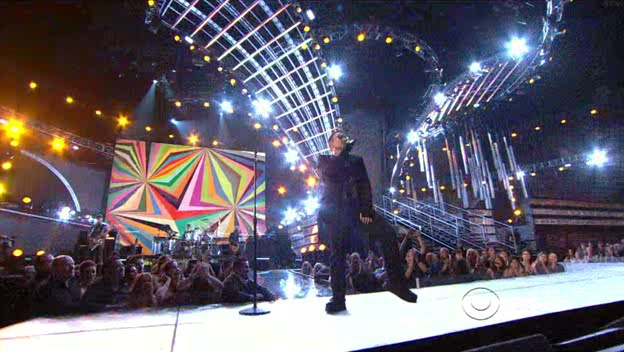person: (315, 131, 383, 249), (312, 131, 380, 249), (318, 131, 386, 249), (315, 128, 383, 246), (315, 134, 383, 252)
target_negative: (212, 229, 611, 252), (111, 290, 485, 313), (82, 231, 140, 269), (504, 277, 577, 287)
